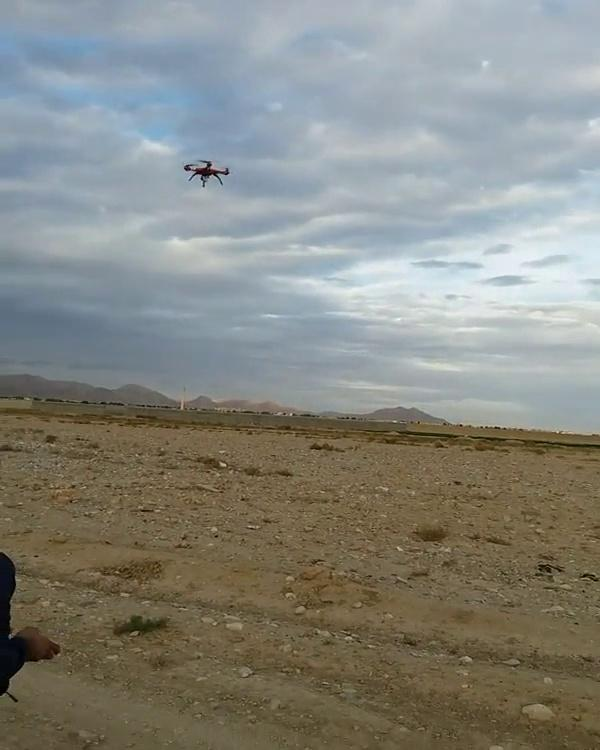drone: (179, 153, 233, 191)
